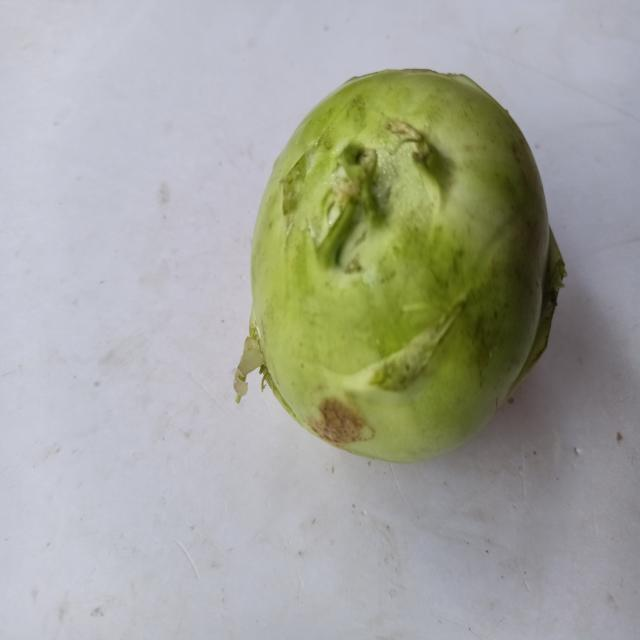Turnip: (209, 58, 598, 476)
